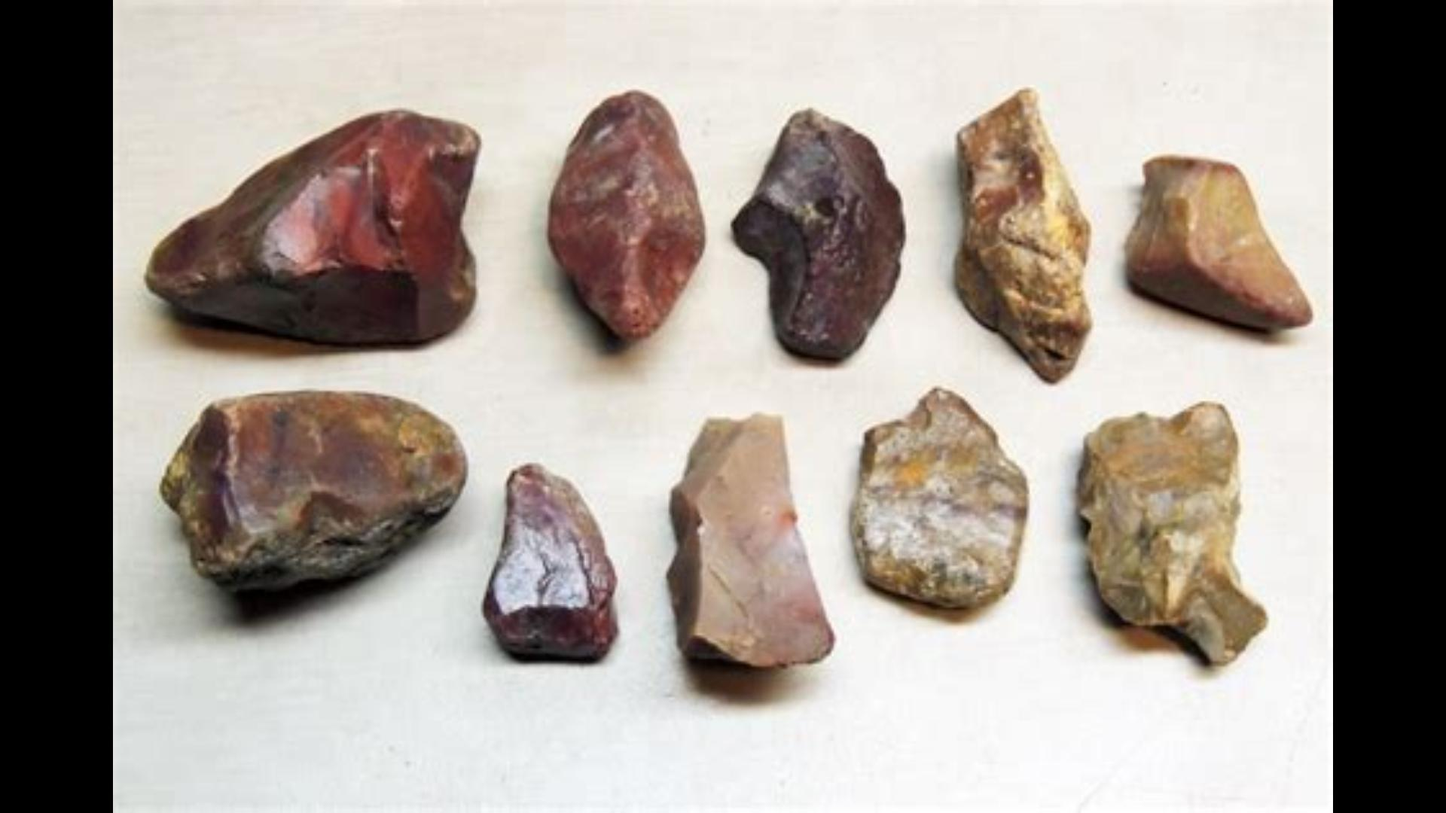rock: (149, 111, 476, 342), (159, 391, 466, 589), (1076, 401, 1266, 661), (666, 419, 831, 664), (733, 111, 898, 355), (548, 90, 702, 337), (957, 90, 1089, 378), (854, 391, 1024, 605), (1127, 154, 1307, 327), (484, 463, 615, 653)
